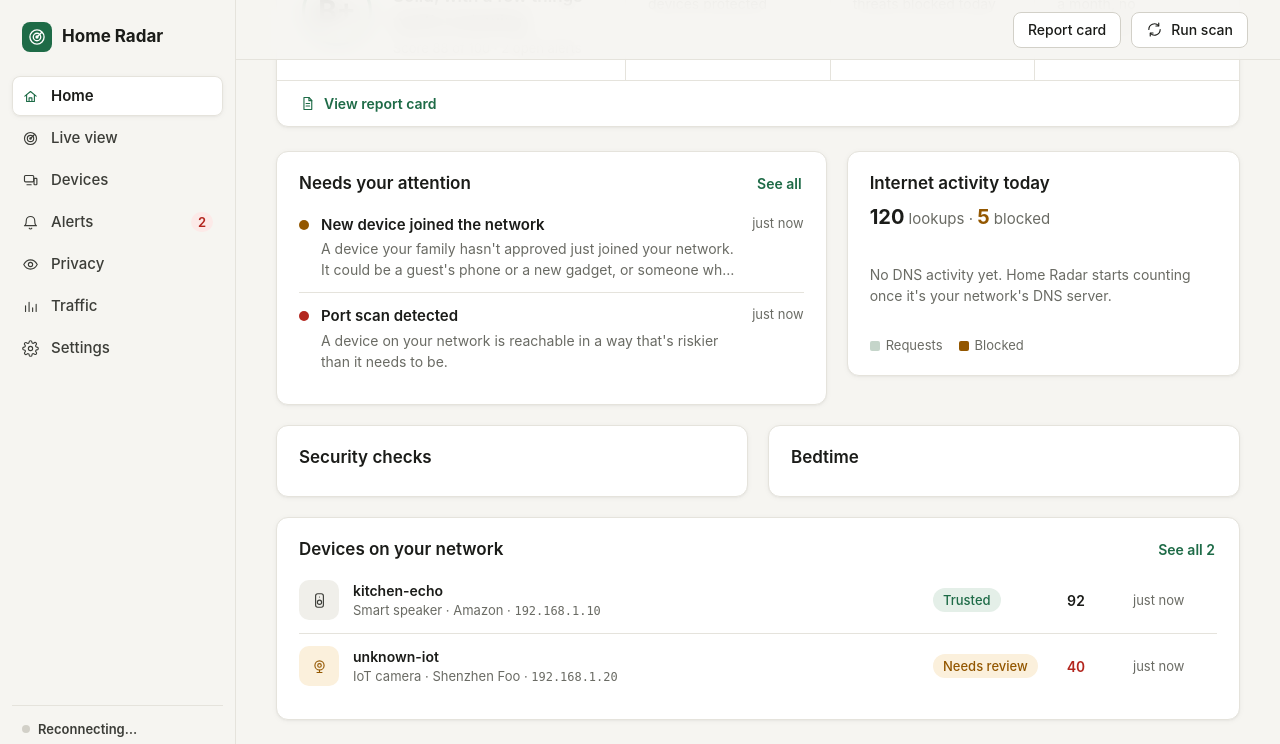
Test case: Bedtime › shows the server's message when a bedtime is rejected
(page scrolled)
What coordinates should you click on to do the following:
click the text "unknown-iot"
I would click on:
 (396, 656)
Its box is [353, 648, 439, 665].
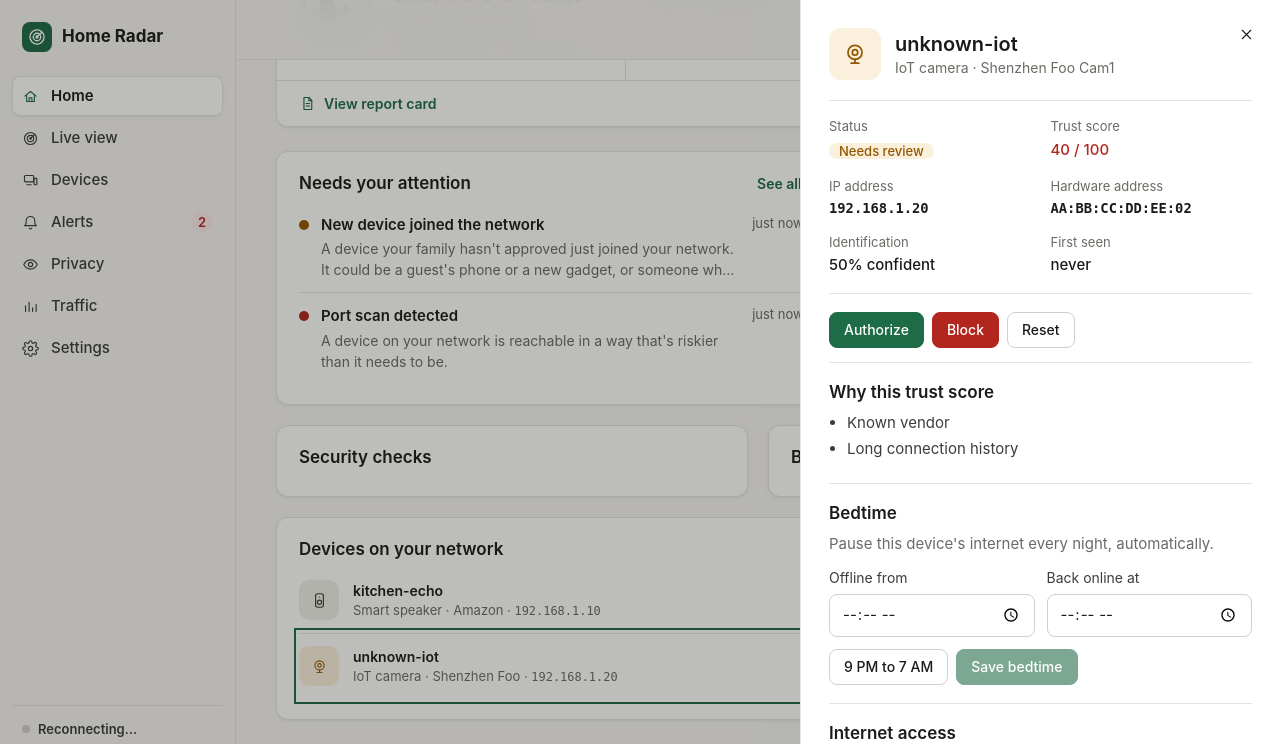
What coordinates should you click on to do the following:
click the button "9 PM to 7 AM"
I would click on:
 (889, 667)
Its box is [829, 649, 948, 685].
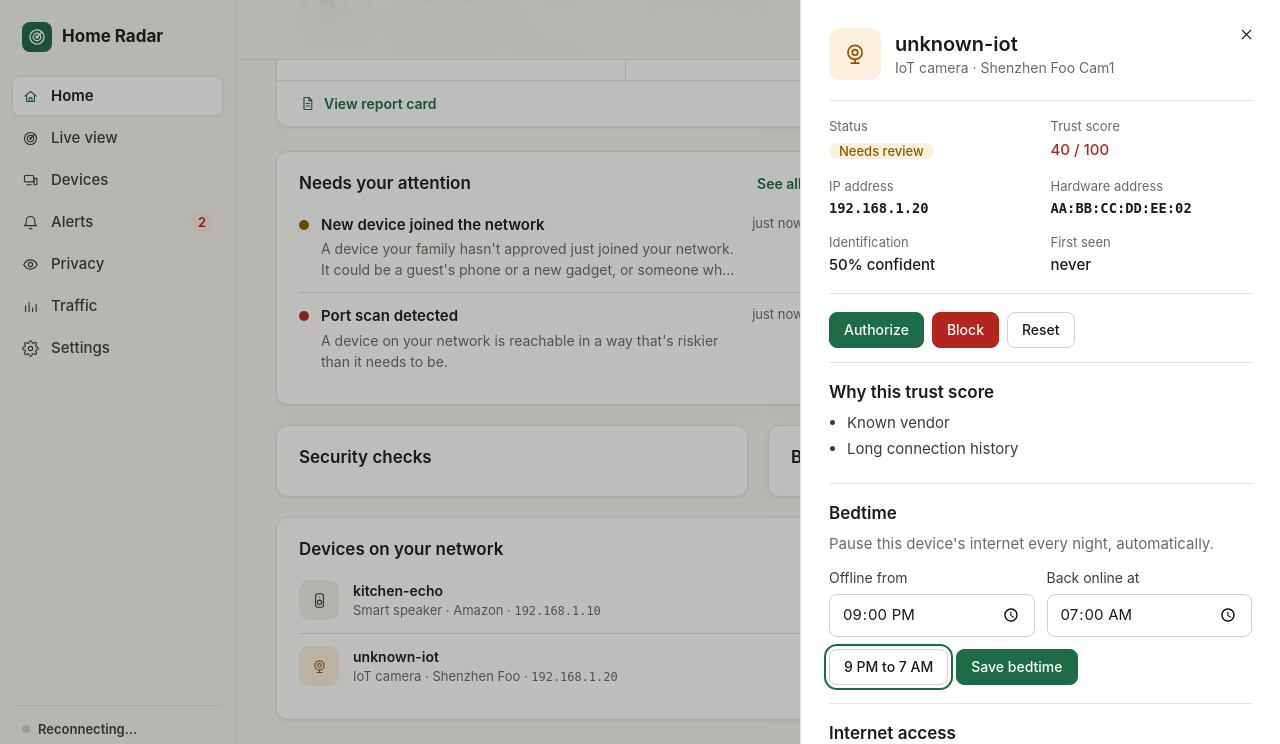
What coordinates should you click on to do the following:
click the button "Save bedtime"
I would click on:
 (1017, 667)
Its box is [956, 649, 1078, 685].
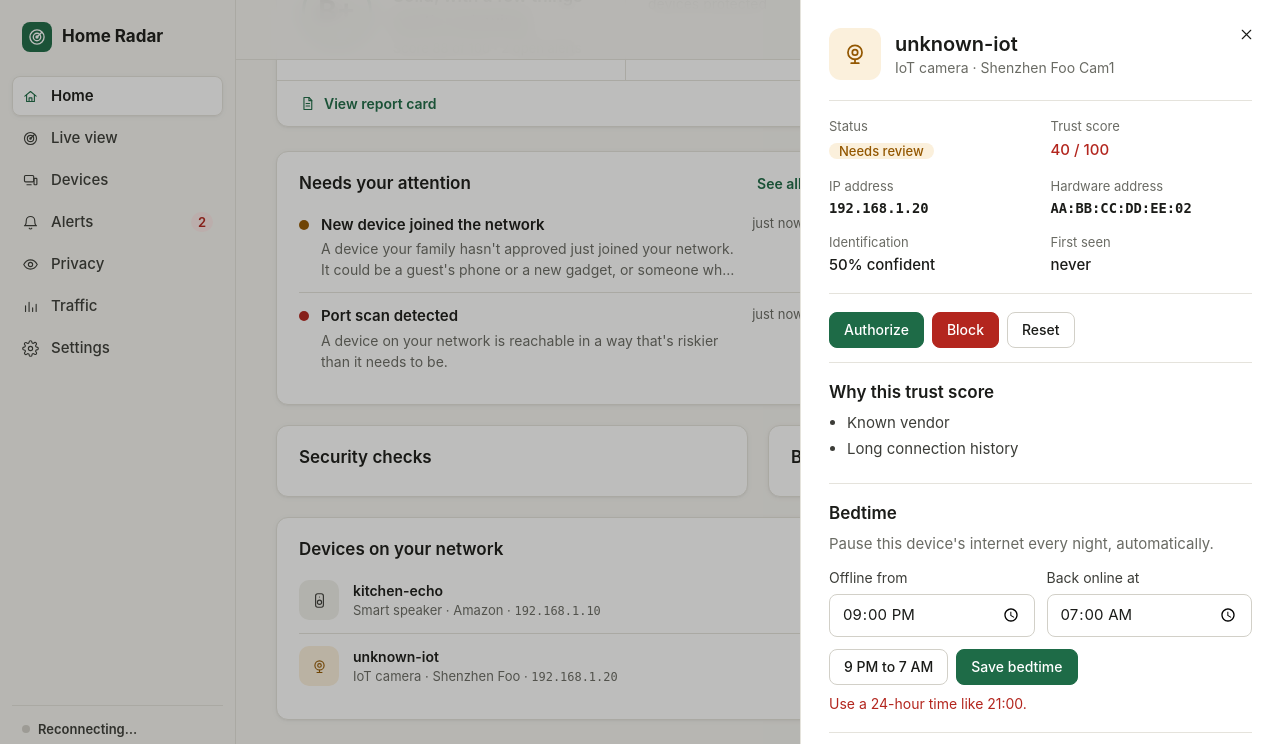
Expected: the text "Use a 24-hour time like 21:00." is shown, [829, 695, 1027, 712]
